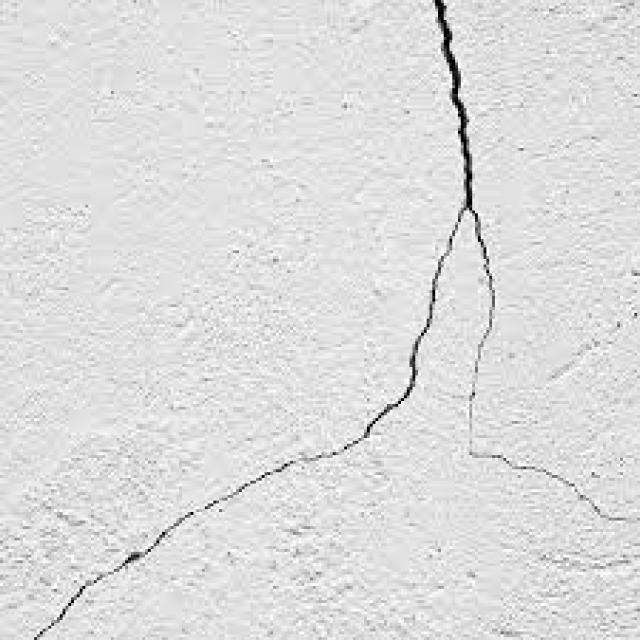Crack: (29, 202, 466, 634), (438, 0, 629, 521)
